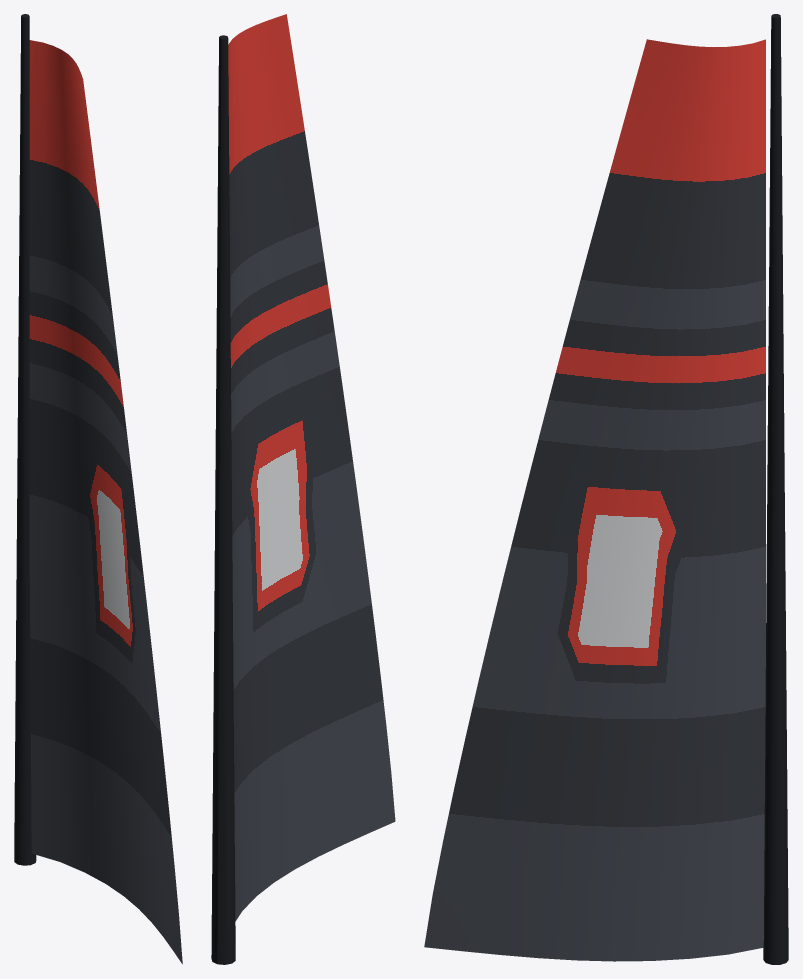
Rendered from rig_1_s.glb.
3 renders of one model, left to right at view 1: azimuth 30°, elevation 25°; view 2: azimuth 150°, elevation 25°; view 3: azimuth 270°, elevation 25°, orthographic. The views are drawn at different scales.
Visible parts, largest first — view 1: rig_1_s_body; view 2: rig_1_s_body; view 3: rig_1_s_body.
Boxes of the visible parts, bbox=[...] form: rig_1_s_body: bbox=[14, 14, 182, 964]; rig_1_s_body: bbox=[211, 14, 395, 964]; rig_1_s_body: bbox=[424, 14, 788, 964].
Size of the model in its own units: 1.15 by 26.2 by 9.17.
1 material, 1 textured.
